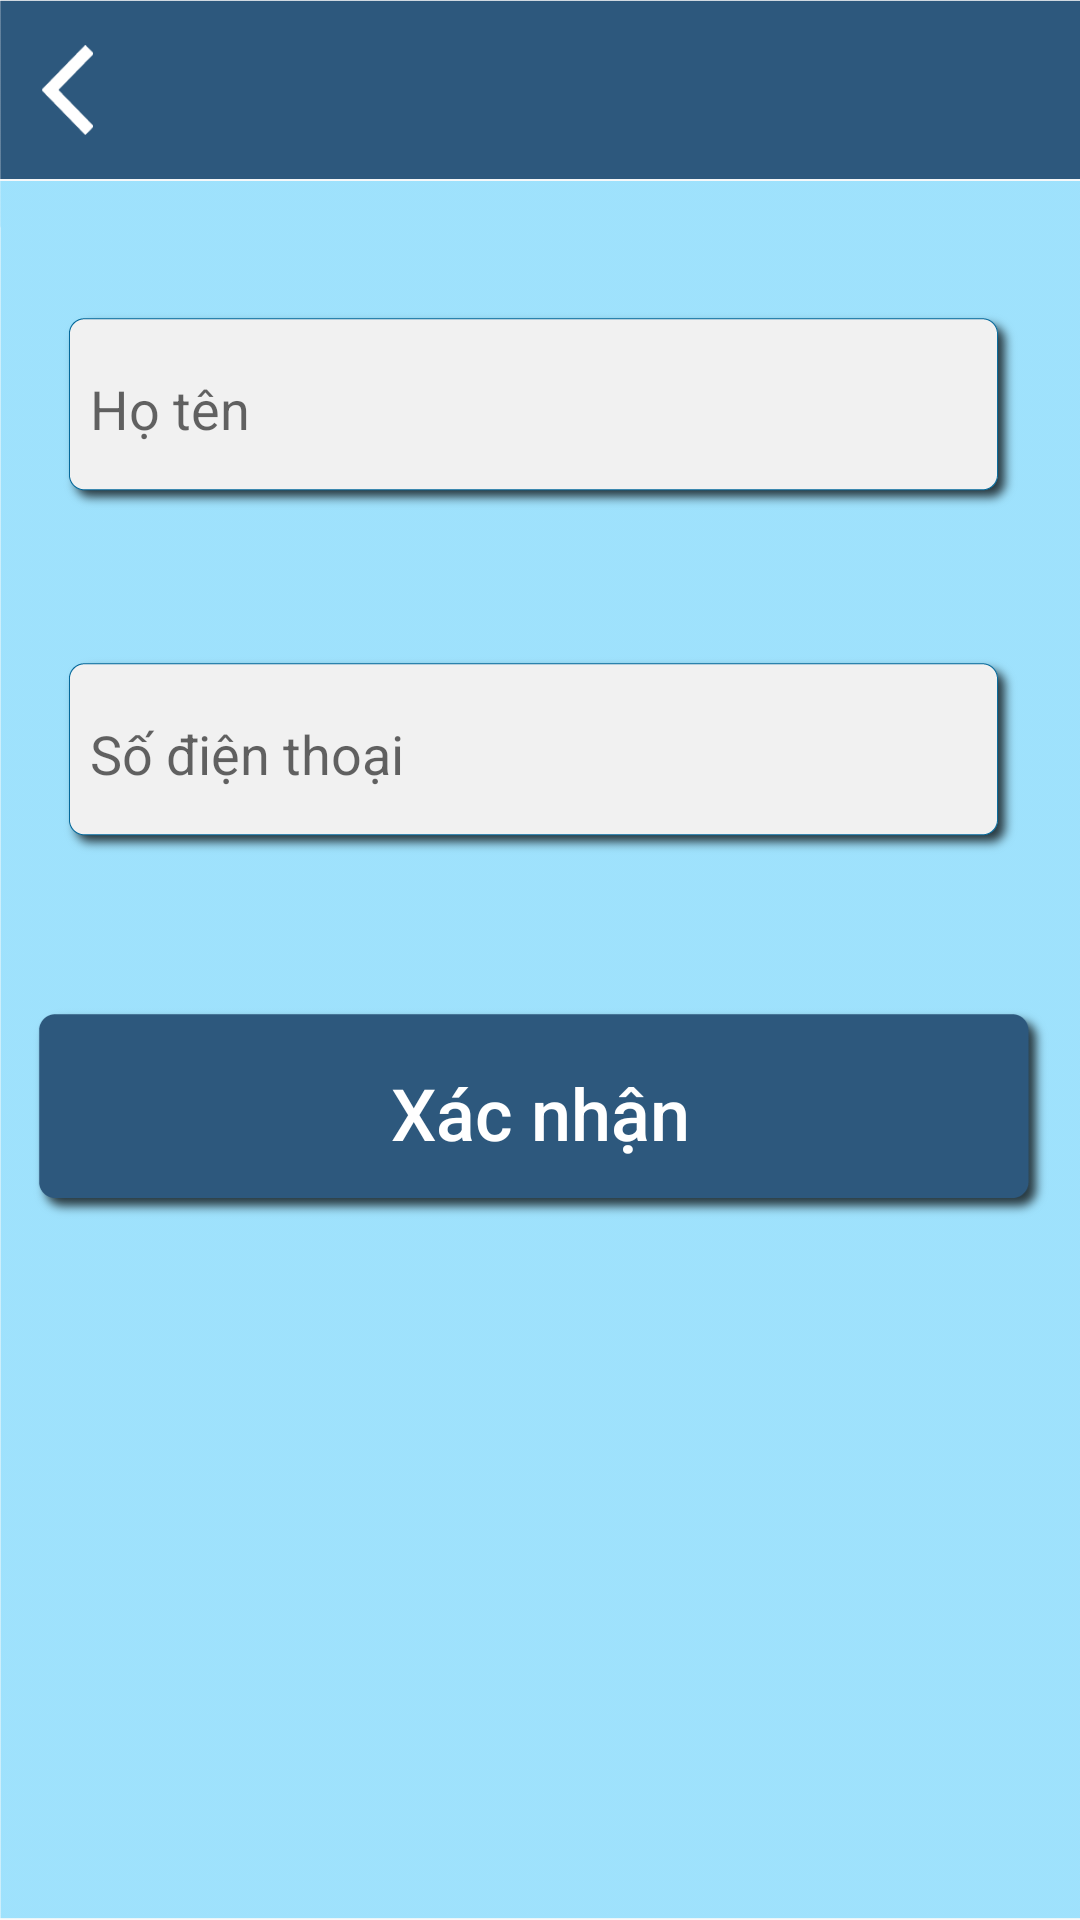

Icon click points for this 1080x1920 phone screenshot, format (x=x, y=y):
back: (x=90, y=90)
